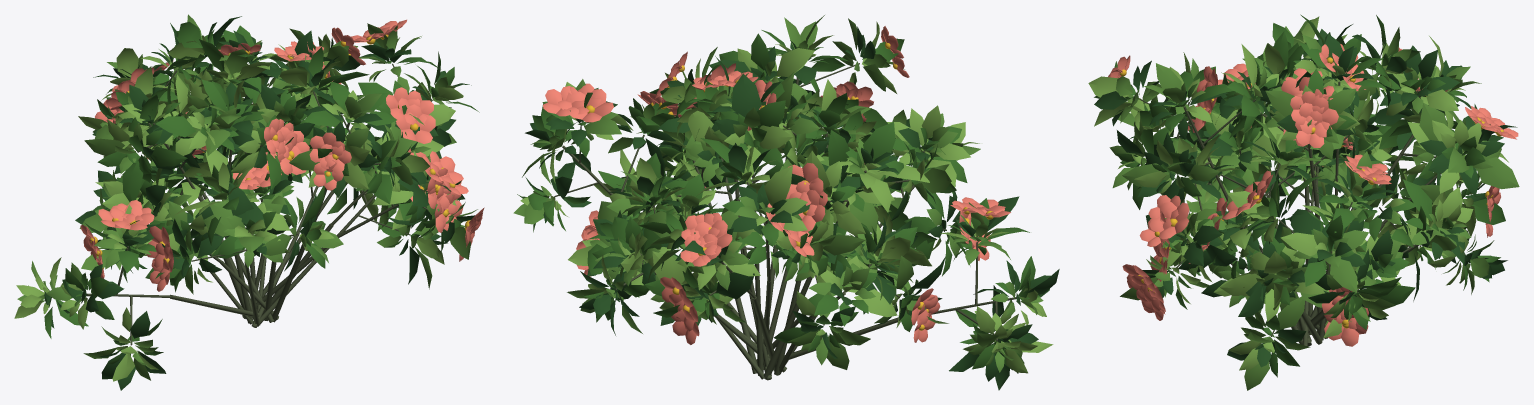
File: shrub-06-coral.glb
3 renders of one model, left to right at view 1: azimuth 30°, elevation 25°; view 2: azimuth 150°, elevation 25°; view 3: azimuth 270°, elevation 25°, orthographic. The views are drawn at different scales.
Parts seen in each view (by area): view 1: foliage-2, foliage-4, foliage-3, foliage-1, flowers, branches, flower-centers; view 2: foliage-2, foliage-4, foliage-3, foliage-1, flowers, branches, flower-centers; view 3: foliage-3, foliage-1, foliage-2, foliage-4, flowers, branches, flower-centers.
Part boxes in pixels (x1,y1,x2,y2): foliage-2: (44,21,479,364); foliage-4: (14,34,463,381); foliage-3: (17,14,477,380); foliage-1: (44,16,474,390); flowers: (80,19,484,291); branches: (86,63,434,345); flower-centers: (90,34,470,268); foliage-2: (517,30,1040,370); foliage-4: (520,21,1053,373); foliage-3: (513,15,1043,372); foliage-1: (525,26,1059,390); flowers: (543,26,1010,344); branches: (554,63,1016,380); flower-centers: (586,42,993,330); foliage-3: (1109,19,1519,390); foliage-1: (1094,24,1517,367); foliage-2: (1094,14,1505,377); foliage-4: (1088,16,1508,370); flowers: (1108,44,1518,346); branches: (1139,73,1464,346); flower-centers: (1120,57,1503,328).
Bounding box in the file's own units: 1.57 × 0.942 × 1.2.
